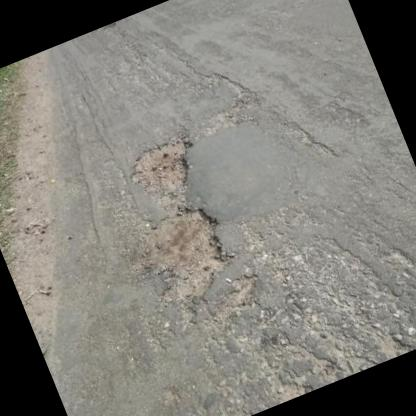pothole: (123, 194, 245, 318), (118, 126, 212, 214)
